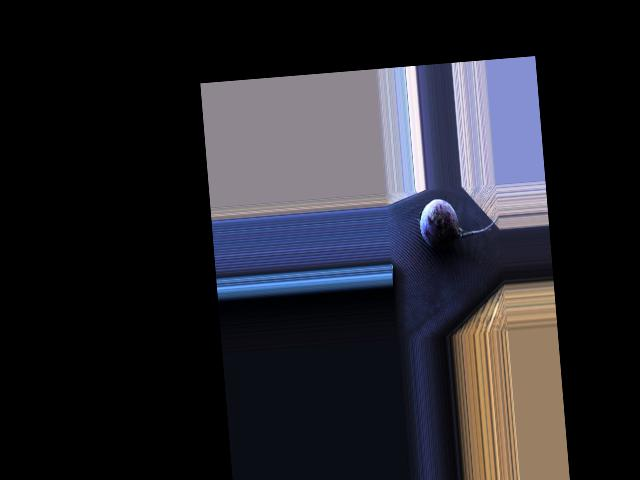beet: (417, 194, 500, 251)
